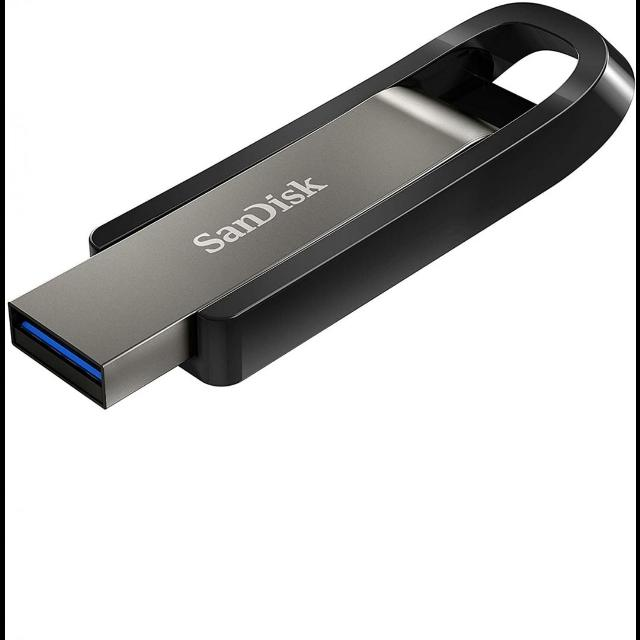USB-Flash-Drive: (5, 3, 635, 411)
